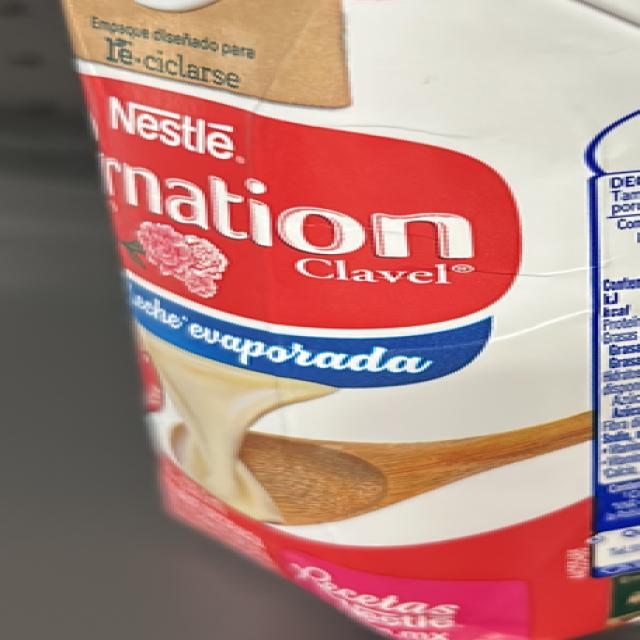nestleCarnation: (113, 0, 639, 515)
